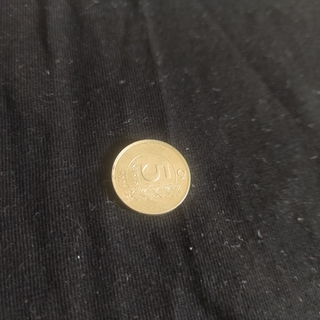5KURUS: (109, 136, 194, 217)
